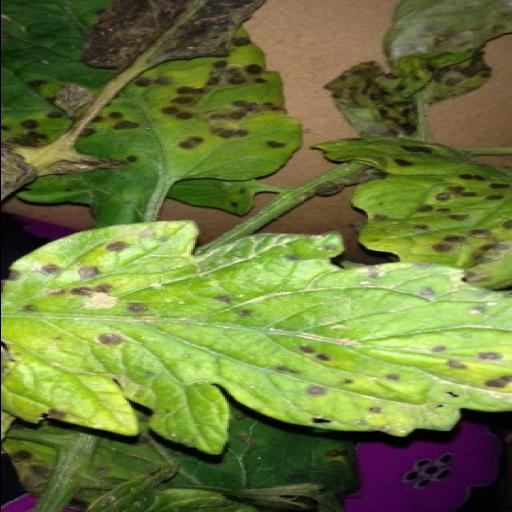disease_tomato: (2, 218, 508, 456), (0, 0, 307, 212), (310, 136, 512, 290), (318, 0, 512, 144)
